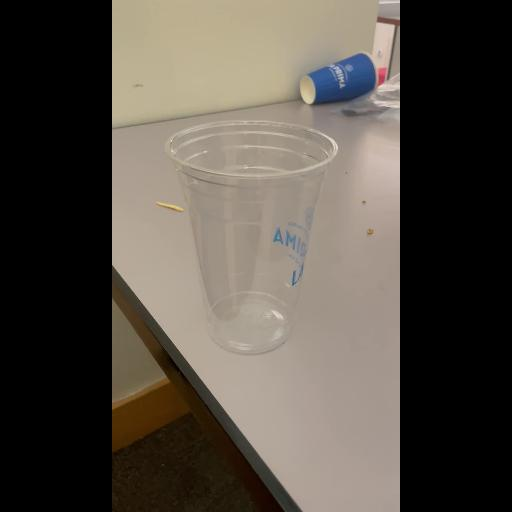lp_plastic_cup: (158, 115, 340, 361)
